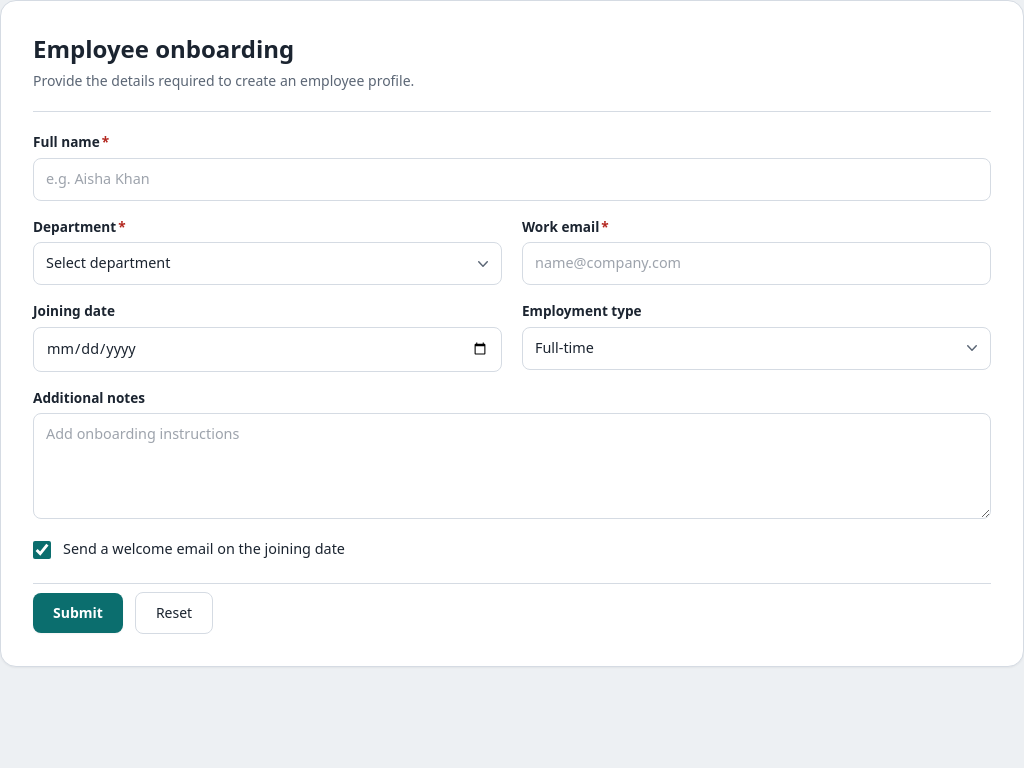
Test: FormRenderer: conditional visibility › shows and hides fields as the controlling field changes
Expected: the dropdown labelled "Department*" is shown, [33, 242, 502, 285]
Expected: the field labelled "weekly hours" is not shown
Select "Part-time" in the dropdown labelled "Employment type". click: [756, 348]
box: [522, 327, 991, 370]
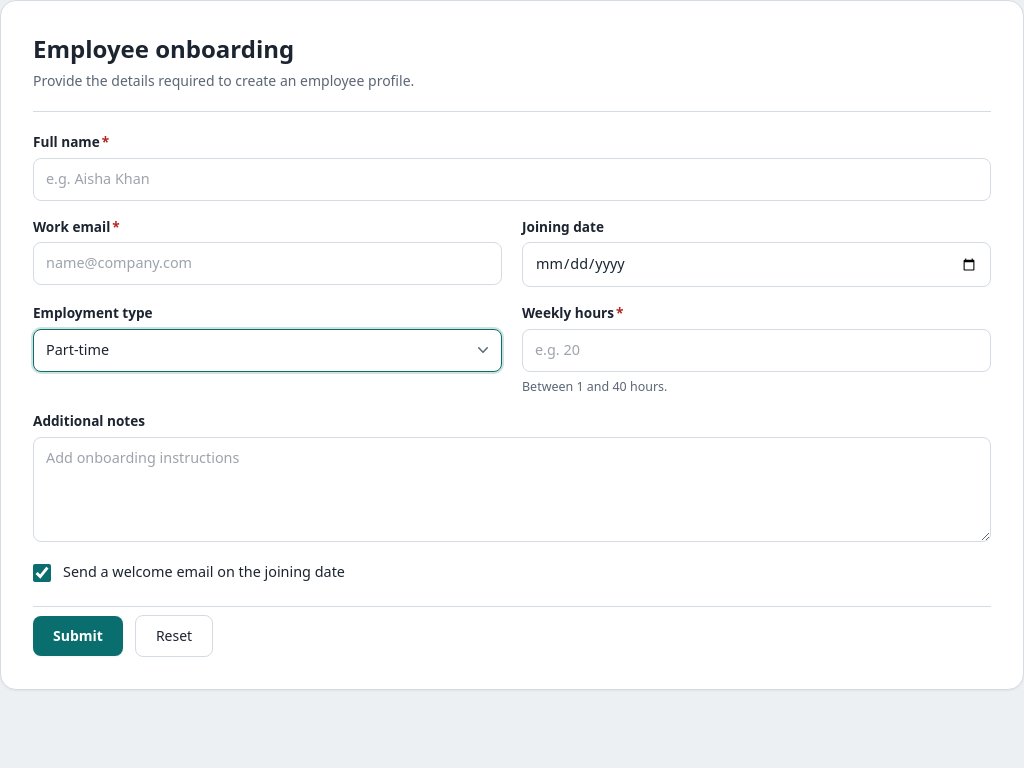
Expected: the label labelled "Department" is gone
Expected: the number field labelled "Weekly hours*" is shown, [522, 329, 991, 372]
Select "Contract" in the dropdown labelled "Employment type". click: [268, 350]
box: [33, 329, 502, 372]
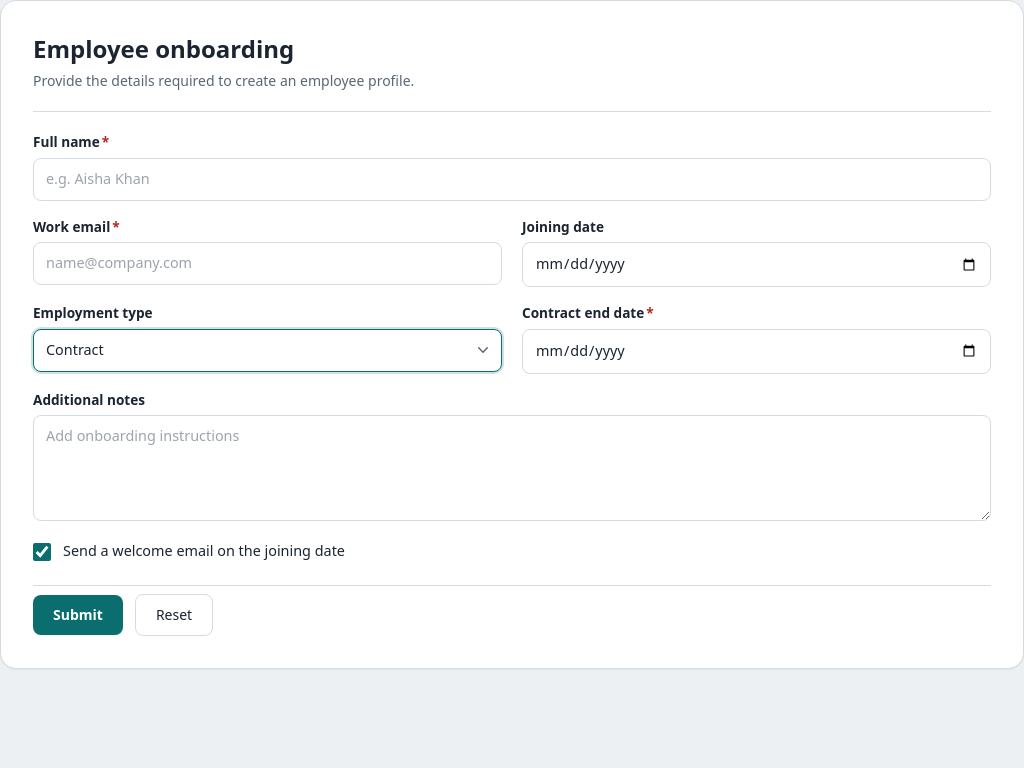
Expected: the date field labelled "Contract end date*" is shown, [522, 329, 991, 374]
Expected: the label labelled "Weekly hours" is gone
